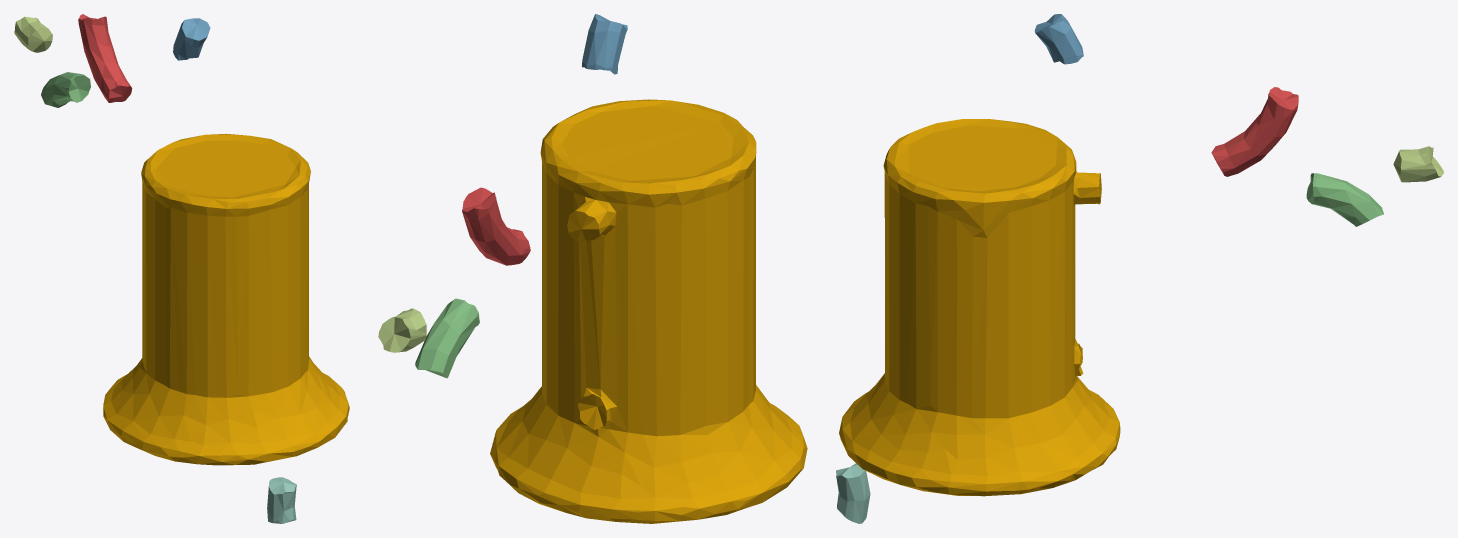
Rendered from fractured_36_6pcs_transformed.glb.
The picture shows the model from 3 angles, left to right: view 1: azimuth 30°, elevation 25°; view 2: azimuth 150°, elevation 25°; view 3: azimuth 270°, elevation 25°; orthographic projection. The views are drawn at different scales.
Parts seen in each view (by area): view 1: piece_0.obj, piece_1.obj, piece_3.obj, piece_4.obj, piece_2.obj, piece_5.obj; view 2: piece_0.obj, piece_1.obj, piece_3.obj, piece_2.obj, piece_5.obj; view 3: piece_0.obj, piece_1.obj, piece_3.obj, piece_4.obj, piece_2.obj, piece_5.obj.
Part boxes in pixels (x1=…): piece_0.obj: x1=103, y1=133, x2=349, y2=465; piece_1.obj: x1=78, y1=14, x2=132, y2=102; piece_3.obj: x1=41, y1=72, x2=90, y2=107; piece_4.obj: x1=267, y1=477, x2=296, y2=523; piece_2.obj: x1=173, y1=18, x2=210, y2=60; piece_5.obj: x1=14, y1=16, x2=52, y2=52; piece_0.obj: x1=490, y1=99, x2=807, y2=523; piece_1.obj: x1=462, y1=187, x2=530, y2=265; piece_3.obj: x1=415, y1=298, x2=479, y2=378; piece_2.obj: x1=582, y1=14, x2=627, y2=74; piece_5.obj: x1=378, y1=308, x2=426, y2=352; piece_0.obj: x1=839, y1=119, x2=1120, y2=496; piece_1.obj: x1=1211, y1=87, x2=1298, y2=176; piece_3.obj: x1=1306, y1=173, x2=1383, y2=226; piece_4.obj: x1=836, y1=463, x2=870, y2=523; piece_2.obj: x1=1034, y1=14, x2=1083, y2=64; piece_5.obj: x1=1393, y1=146, x2=1443, y2=182.
Bounding box in the file's own units: 0.7907 × 1.55 × 1.71.
